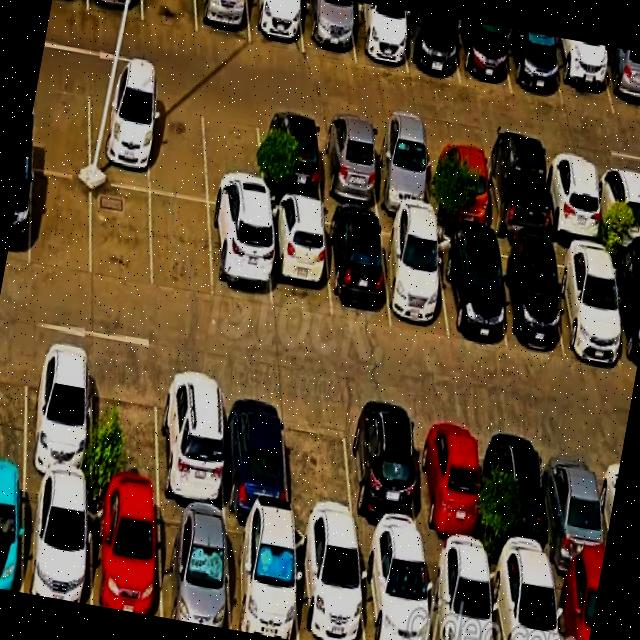empty: (284, 393, 355, 535), (92, 355, 159, 501), (202, 100, 263, 212), (150, 193, 212, 298), (30, 171, 91, 276), (149, 91, 207, 201), (92, 182, 151, 290), (31, 70, 89, 178), (0, 339, 26, 474), (142, 0, 197, 32)
occupied: (345, 403, 422, 546), (413, 412, 483, 558), (24, 342, 90, 488), (158, 368, 224, 512), (221, 380, 288, 521), (157, 503, 230, 629), (542, 433, 606, 574), (488, 424, 551, 567), (90, 491, 160, 617), (226, 516, 297, 640), (551, 244, 623, 365), (23, 478, 90, 604), (435, 231, 506, 348), (490, 239, 563, 352), (380, 219, 448, 337), (294, 526, 364, 640), (324, 209, 390, 324), (267, 200, 330, 317), (358, 541, 430, 640), (89, 79, 149, 191), (423, 548, 494, 640), (481, 146, 548, 242), (208, 206, 271, 308), (426, 137, 490, 230), (258, 110, 322, 203), (488, 558, 558, 640), (369, 127, 432, 218), (316, 119, 379, 210), (543, 155, 603, 245), (551, 36, 613, 114), (504, 28, 562, 104), (400, 9, 459, 83), (454, 19, 511, 93), (349, 0, 407, 72), (595, 163, 640, 251), (608, 253, 640, 373), (551, 568, 600, 640), (301, 0, 354, 60), (599, 44, 640, 119), (247, 0, 303, 52), (0, 475, 24, 592), (5, 164, 32, 267), (195, 0, 249, 43), (87, 0, 142, 20)
